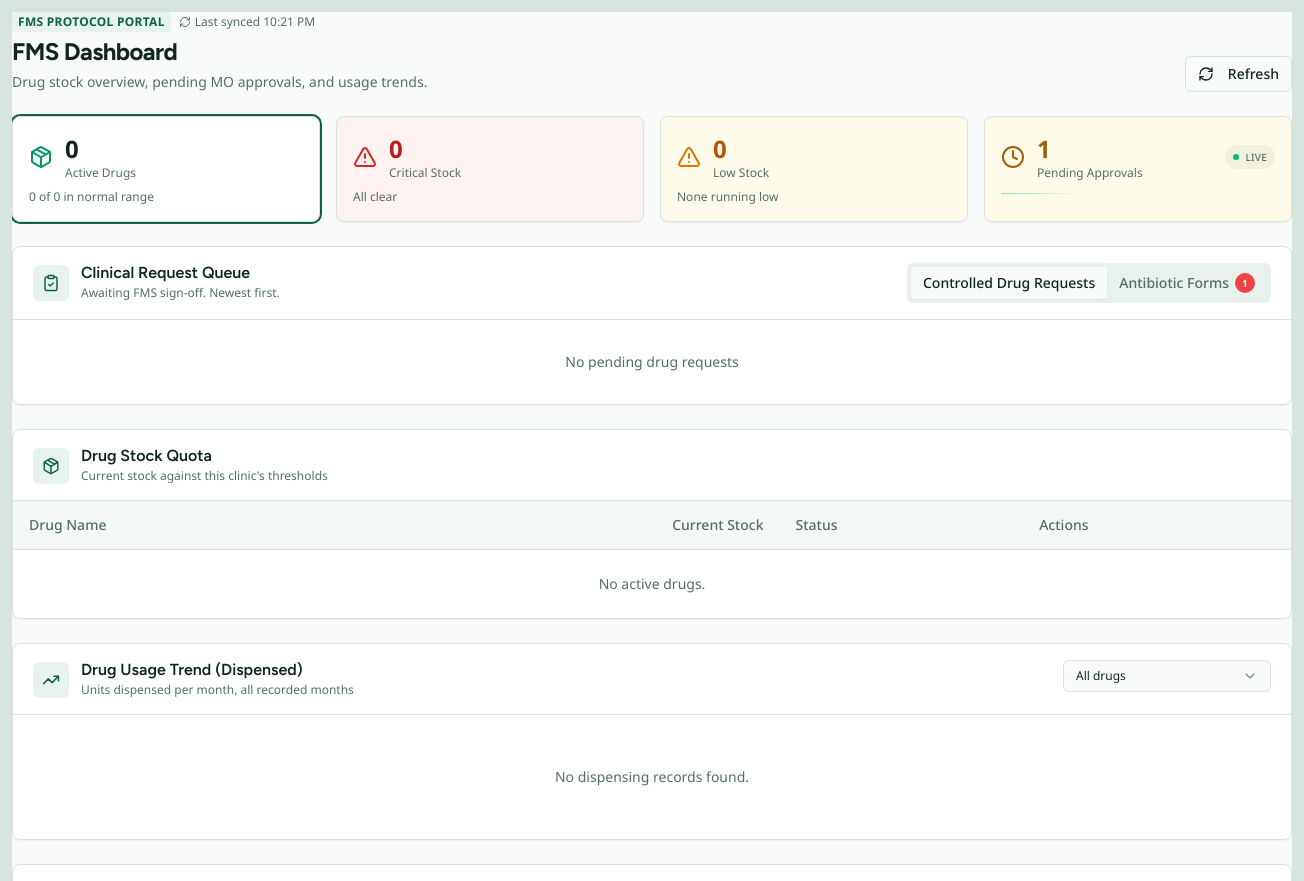
Test: FmsDashboard sections › reveals the drug-vs-antibiotic breakdown when hovering the Pending Approvals card
The width and height of the screenshot is (1304, 881).
Hover over the button with test id "stat-card-Pending Approvals" at (1138, 169), box [984, 116, 1292, 222]
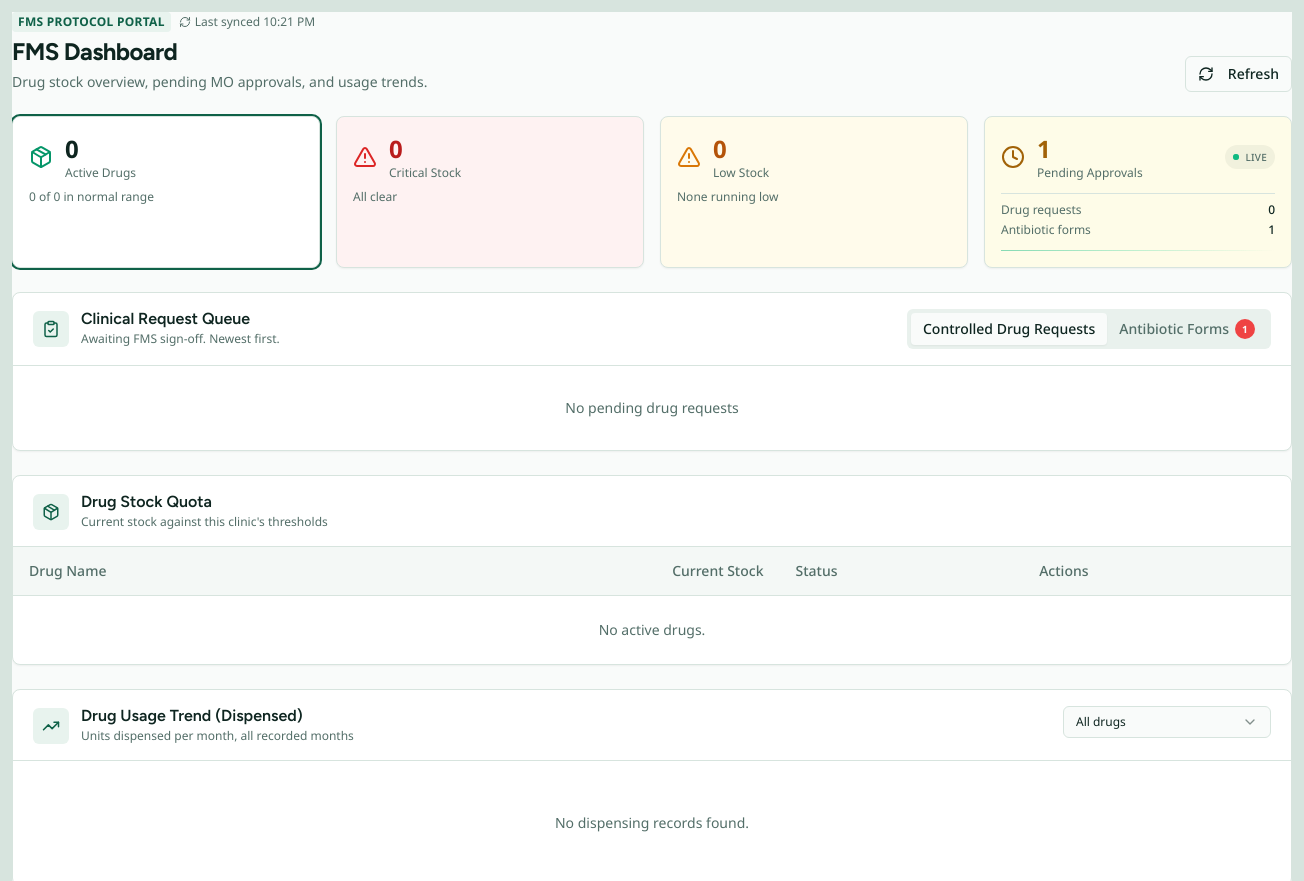
Expected: the text "Drug requests" is shown, [1001, 202, 1082, 218]
Expected: the text "Antibiotic forms" is shown, [1001, 222, 1091, 238]
